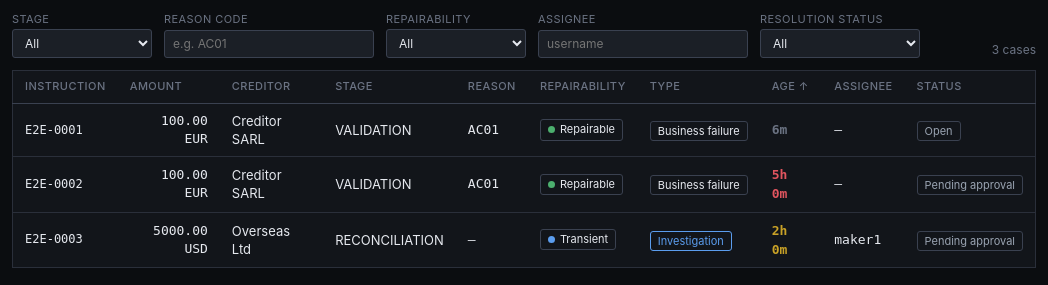
Test: ExceptionQueueScreen › toggles the age sort direction on click
Click the button "Age ↑".
click(790, 87)  # box left=772, top=79, right=809, bottom=95
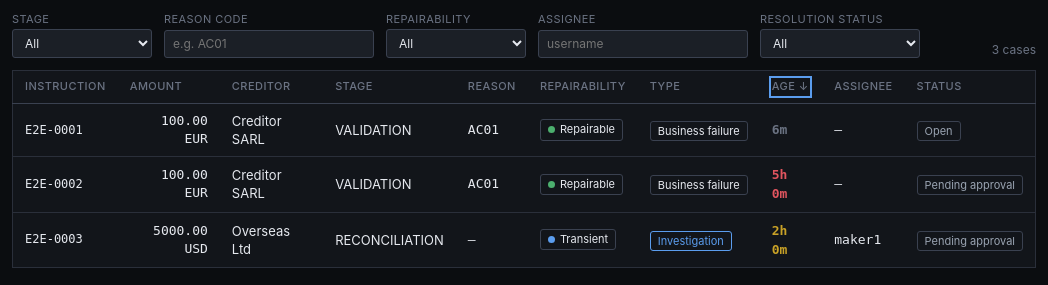
Expected: the button "Age ↓" is shown, left=772, top=79, right=809, bottom=95
